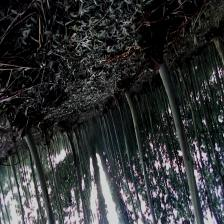trunk: (157, 54, 203, 210), (123, 88, 154, 212), (22, 129, 54, 215)
